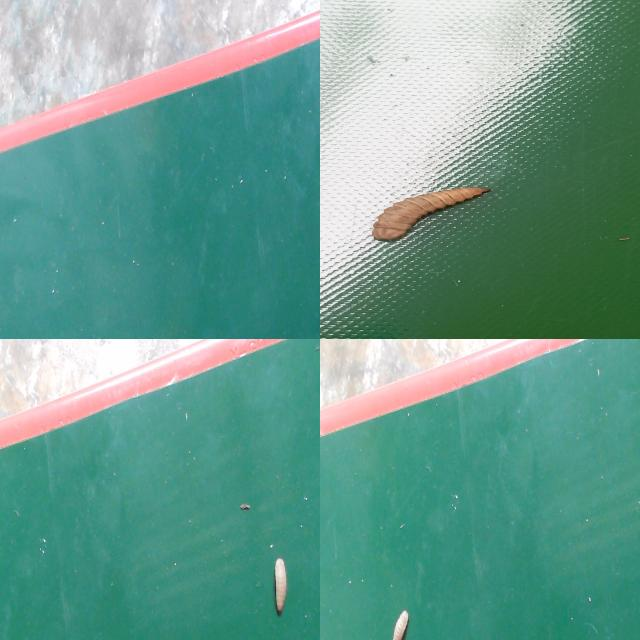Maggot: (369, 185, 487, 245), (272, 557, 291, 617), (389, 612, 410, 640)
